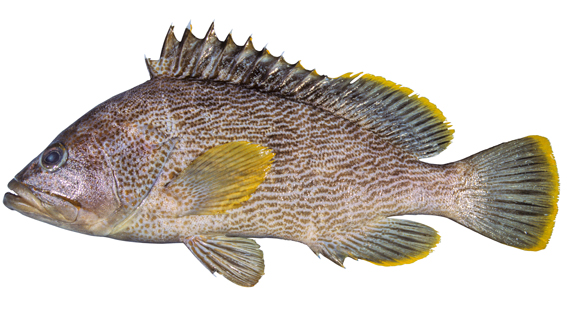fish: (3, 19, 560, 287)
